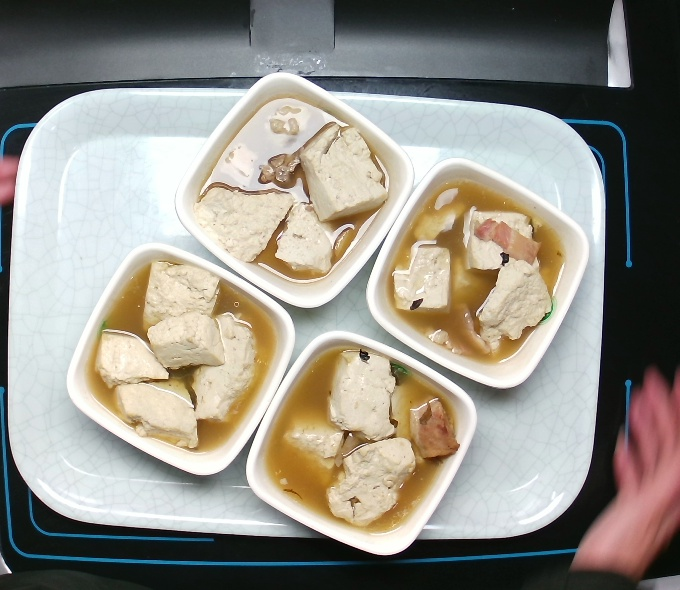wcq-DouFuRouTang: (195, 85, 388, 286), (79, 250, 272, 451), (385, 176, 578, 377), (264, 344, 457, 545)
